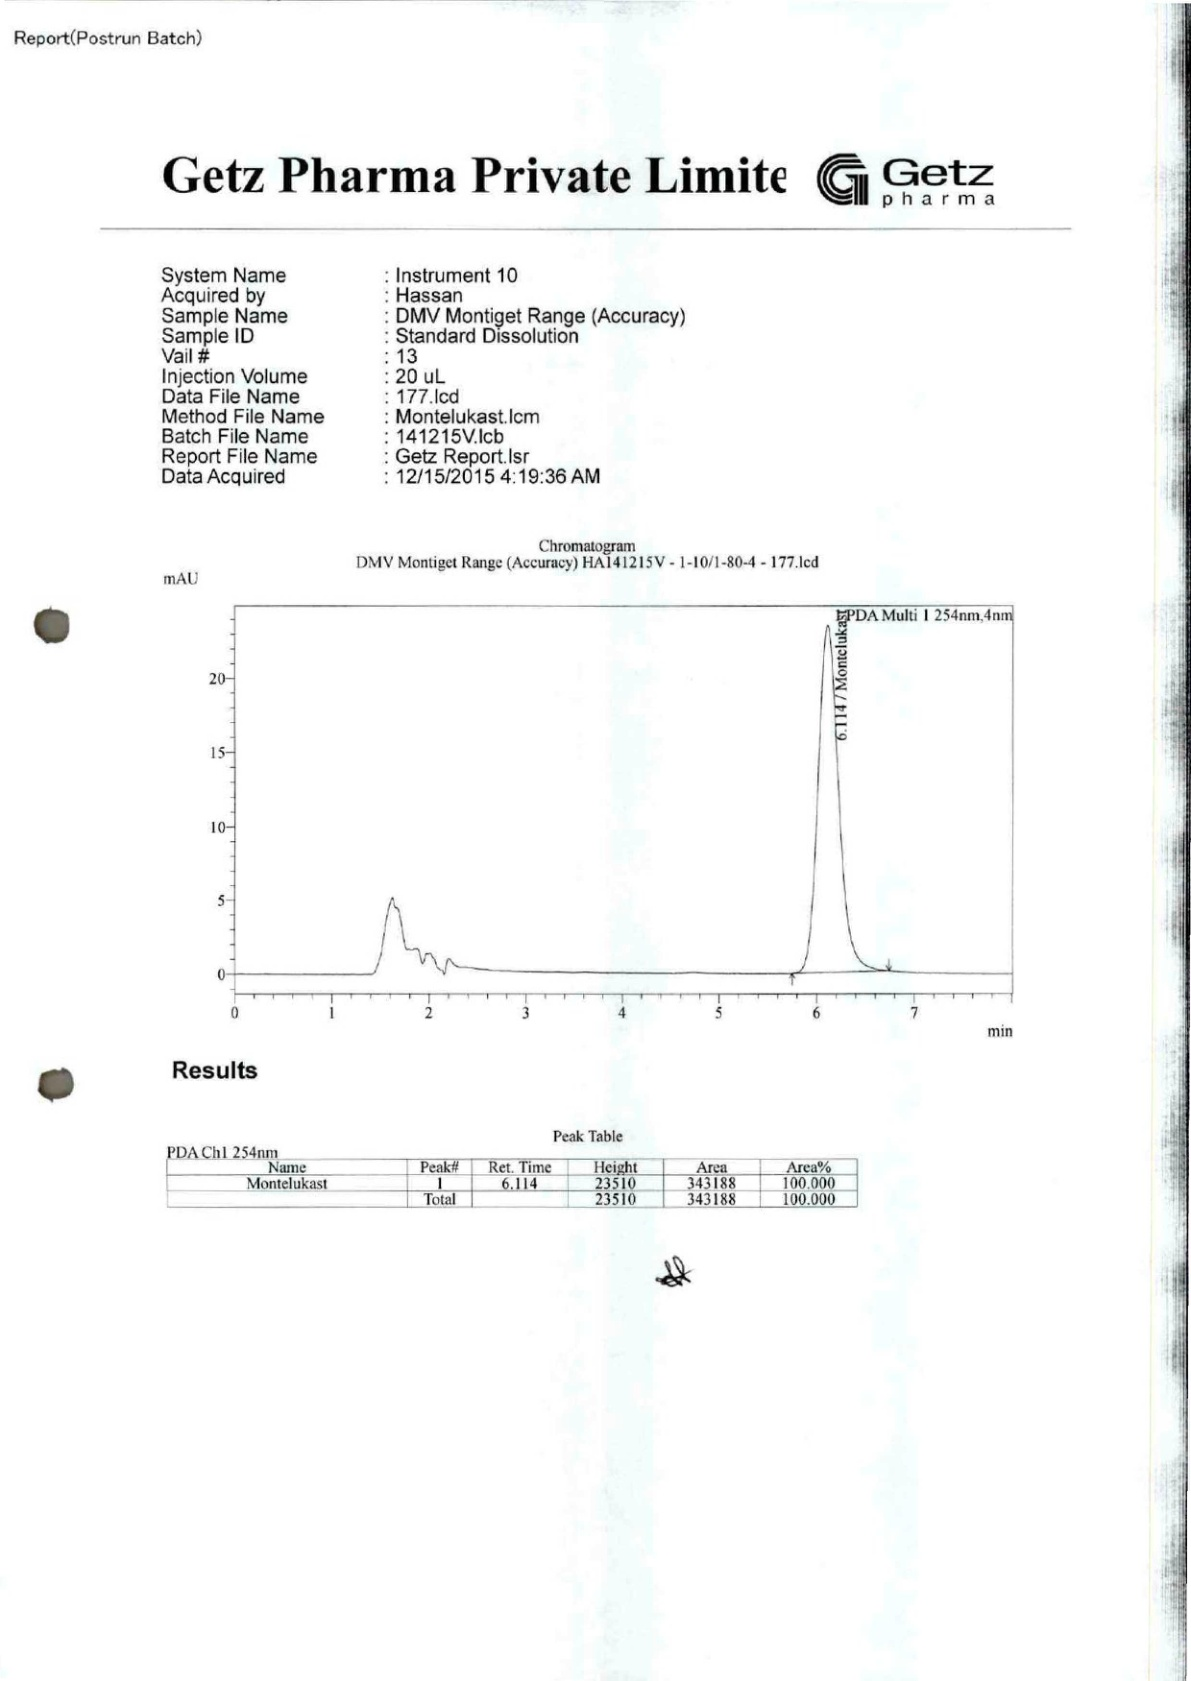full_lined: (165, 1158, 858, 1209)
nolines: (156, 260, 691, 490)
